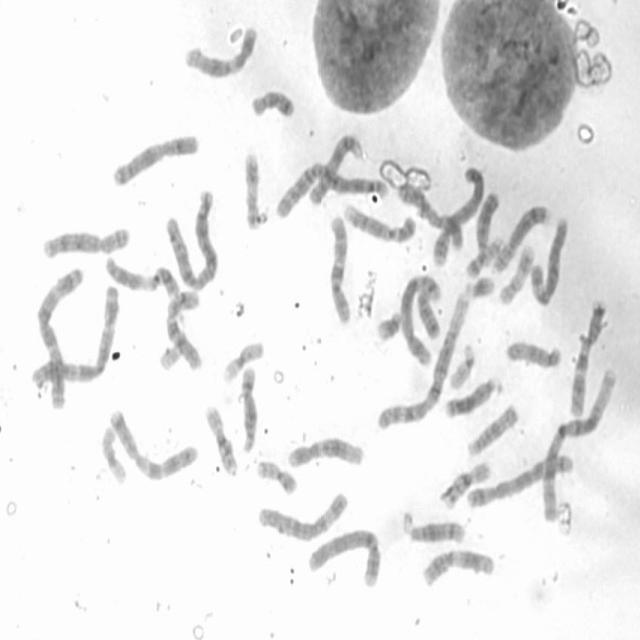A1: (374, 289, 470, 436), (540, 368, 618, 522)
A2: (274, 162, 389, 220), (162, 186, 222, 294)
A3: (30, 284, 118, 390), (36, 265, 85, 411)
B4: (430, 162, 486, 270), (307, 527, 381, 590)
B5: (466, 454, 575, 509), (400, 275, 444, 370)
C10: (325, 214, 353, 324), (166, 290, 203, 371)
C11: (104, 252, 181, 300), (419, 549, 497, 590)
C12: (183, 25, 261, 80), (287, 438, 366, 469)
C6: (256, 488, 352, 542), (530, 216, 570, 306)
C7: (110, 407, 200, 484), (567, 298, 608, 420)
C8: (492, 204, 552, 277), (41, 224, 132, 260)
C9: (308, 132, 368, 206), (342, 203, 417, 246)
D13: (444, 375, 504, 420), (474, 190, 502, 265)
D14: (401, 511, 466, 547), (238, 363, 262, 458)
D15: (467, 403, 520, 457), (507, 336, 562, 368)
E16: (439, 459, 493, 510), (205, 403, 239, 480)
E17: (499, 243, 537, 307), (243, 150, 261, 229)
E18: (250, 82, 296, 121), (416, 286, 444, 340)
F19: (220, 341, 267, 384), (100, 424, 128, 485)
F20: (464, 231, 507, 282), (256, 459, 300, 496)
G21: (376, 310, 402, 344), (463, 274, 497, 300)
G22: (449, 342, 474, 391), (160, 332, 187, 372)
X: (112, 131, 201, 187), (398, 182, 464, 250)
